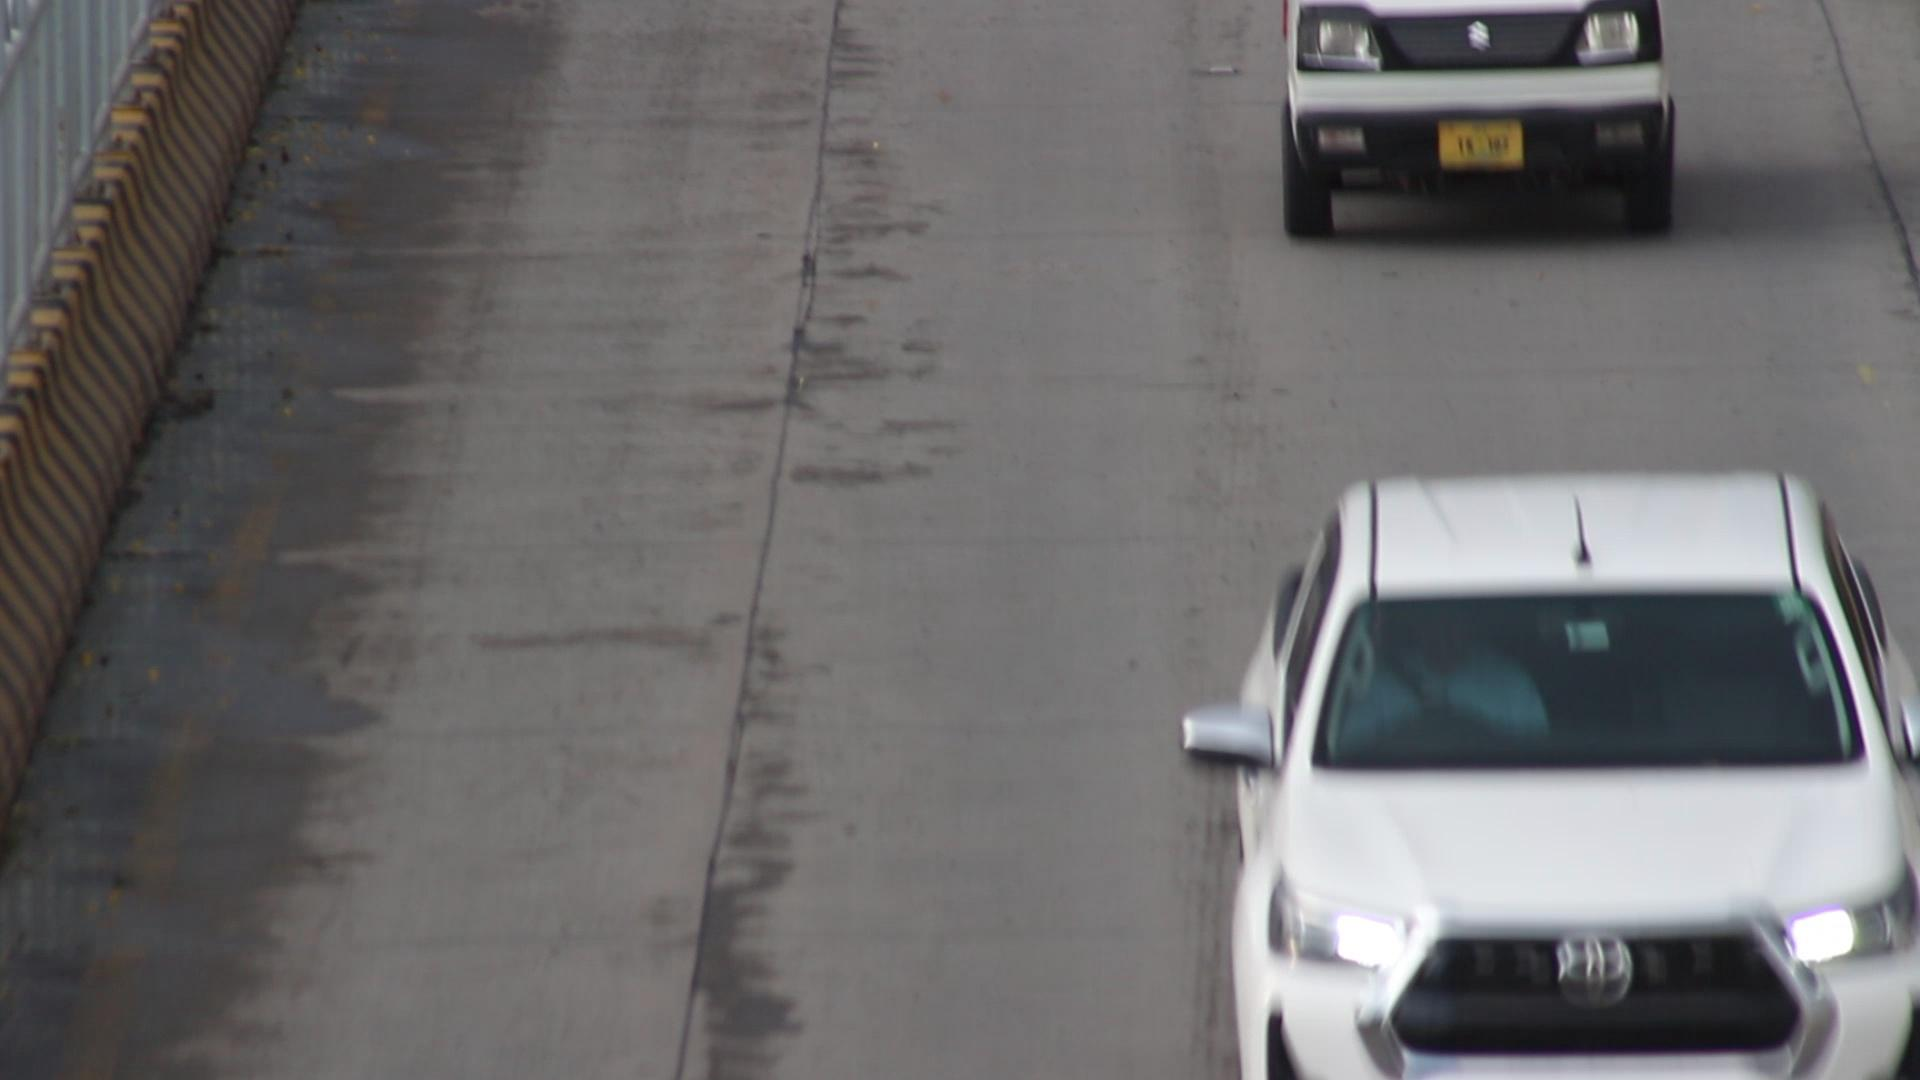windshield: (1291, 560, 1874, 783)
